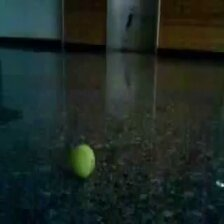tennis: (68, 144, 97, 178)
